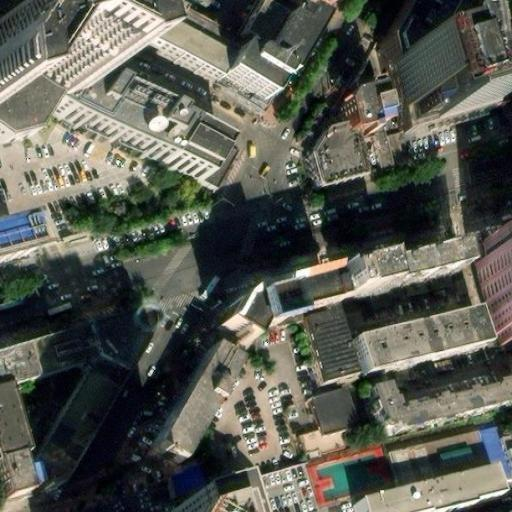building: (78, 66, 228, 168), (213, 265, 343, 351), (0, 333, 155, 404), (357, 283, 499, 360), (370, 361, 512, 426), (222, 14, 315, 105), (39, 386, 119, 481), (396, 44, 495, 116), (161, 349, 232, 442), (354, 471, 494, 512), (390, 227, 478, 272), (392, 0, 454, 55), (338, 82, 391, 144), (313, 110, 367, 169), (309, 389, 361, 441), (345, 260, 400, 305), (160, 459, 211, 506), (486, 413, 512, 474), (439, 442, 476, 471)
